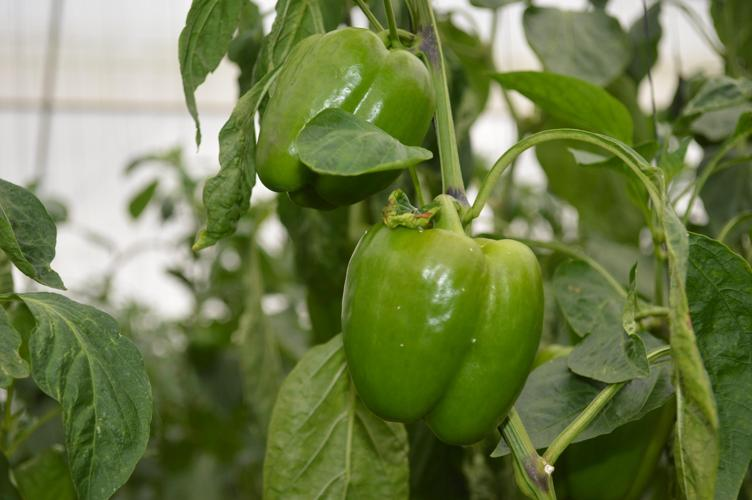BellPepper: (336, 218, 549, 461), (220, 34, 437, 202)
